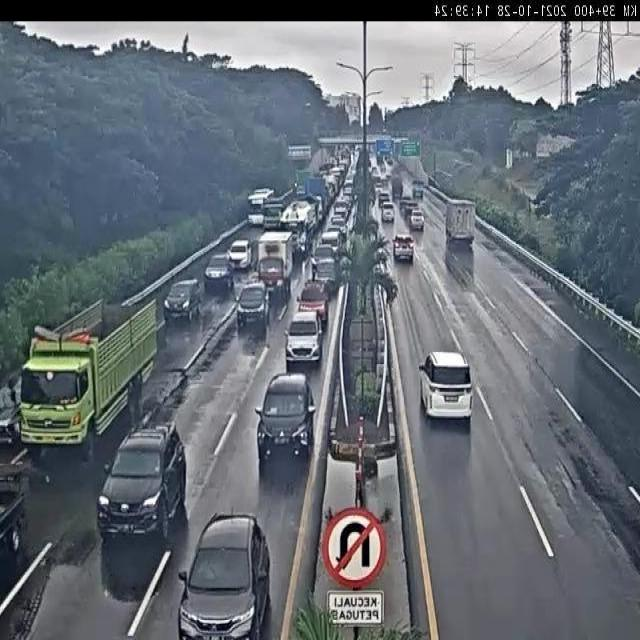Car: (176, 509, 275, 640), (96, 423, 188, 544), (253, 369, 320, 467), (419, 351, 476, 426), (281, 310, 324, 366), (164, 276, 203, 324), (235, 283, 270, 331), (202, 252, 234, 294), (393, 233, 415, 267), (410, 209, 426, 232)
Truck: (14, 293, 160, 465), (255, 230, 294, 301), (442, 197, 476, 246)
